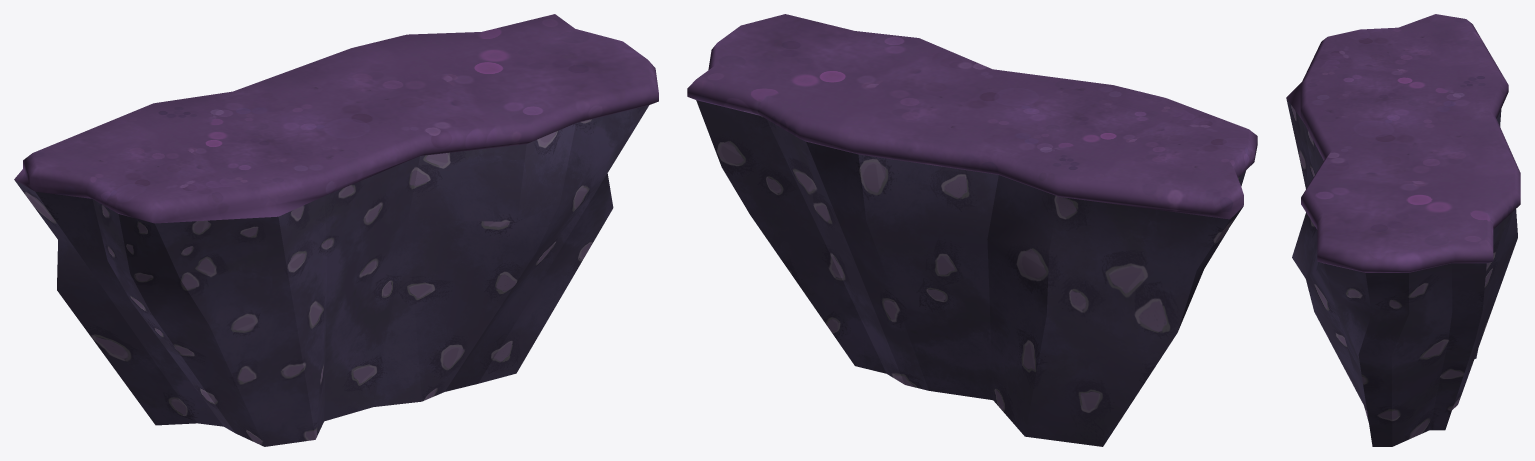
Rendered from ile_flottante.fbx.
3 renders of one model, left to right at view 1: azimuth 30°, elevation 25°; view 2: azimuth 150°, elevation 25°; view 3: azimuth 270°, elevation 25°, orthographic. The views are drawn at different scales.
Parts seen in each view (by area): view 1: île; view 2: île; view 3: île.
Part boxes in pixels (x1=…): île: x1=14, y1=14, x2=658, y2=446; île: x1=687, y1=14, x2=1257, y2=446; île: x1=1286, y1=14, x2=1520, y2=446.
Size of the model in its own units: 66.34 by 32.59 by 26.83.
